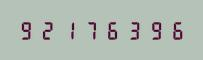nine: (17, 20, 37, 40), (143, 20, 163, 40)
one: (59, 20, 79, 40)
seven: (80, 20, 100, 40)
six: (101, 20, 121, 40), (164, 20, 184, 40)
three: (122, 20, 142, 40)
two: (38, 20, 58, 40)
